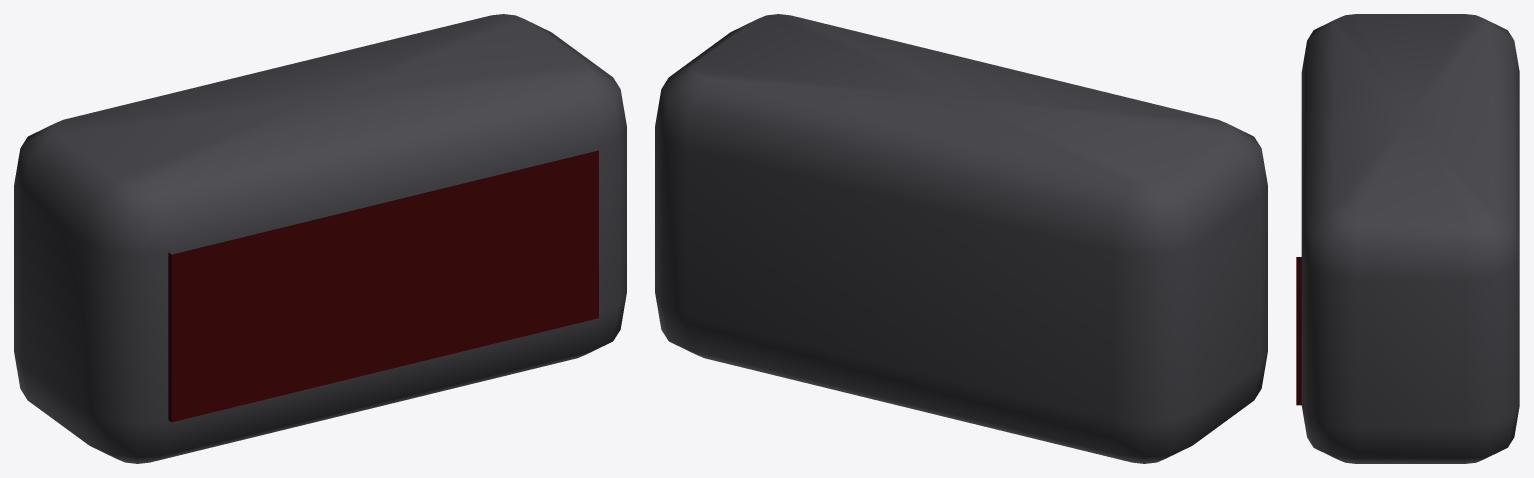
The model's file is alarm_clock.glb.
3 views of the same model, side by side, from view 1: azimuth 30°, elevation 25°; view 2: azimuth 150°, elevation 25°; view 3: azimuth 270°, elevation 25° (orthographic). The views are drawn at different scales.
Parts seen in each view (by area): view 1: AlarmClock; view 2: AlarmClock; view 3: AlarmClock.
Part boxes in pixels (x1=…): AlarmClock: x1=14, y1=14, x2=626, y2=463; AlarmClock: x1=655, y1=14, x2=1267, y2=463; AlarmClock: x1=1296, y1=14, x2=1519, y2=463.
Size of the model in its own units: 0.2 by 0.1 by 0.082.
